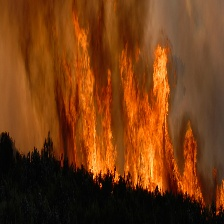fire: (54, 27, 224, 212)
smoke: (7, 1, 75, 161), (184, 7, 224, 128), (86, 1, 139, 54)
